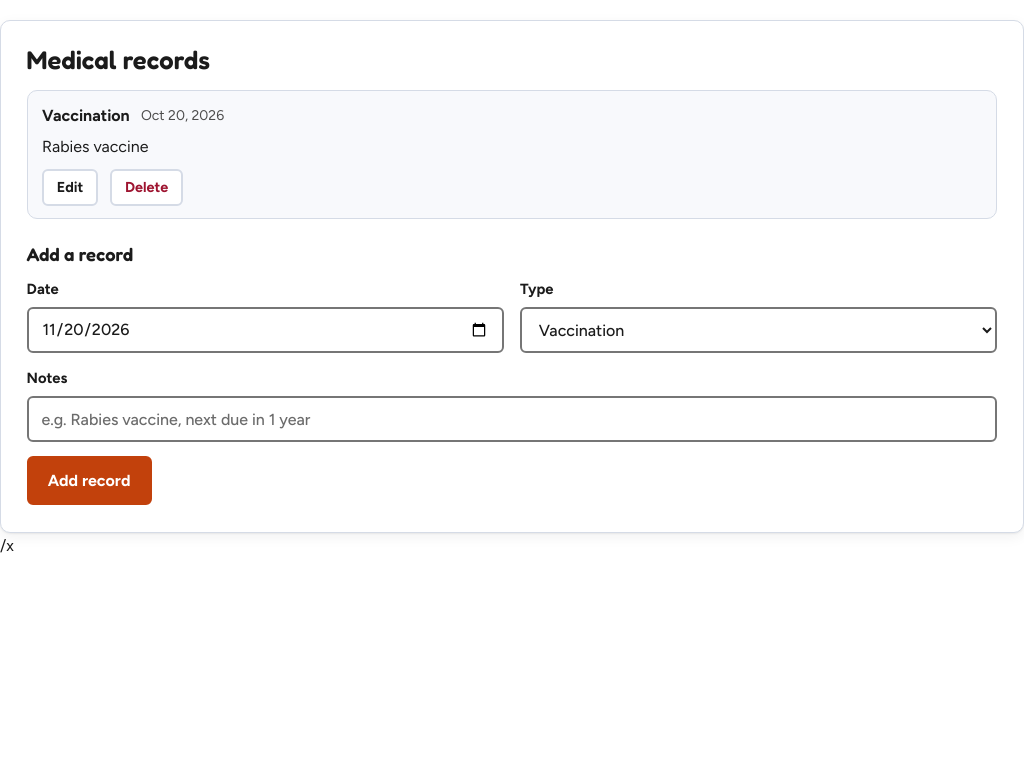
Test: Staff panels (v2) › T-MED-UI-1: staff see medical records and add one
Expected: the text "Rabies vaccine" is shown, [42,137,148,156]
Select "Check-up" in the dropdown labelled "Type": (759,330) [520,307,997,353]
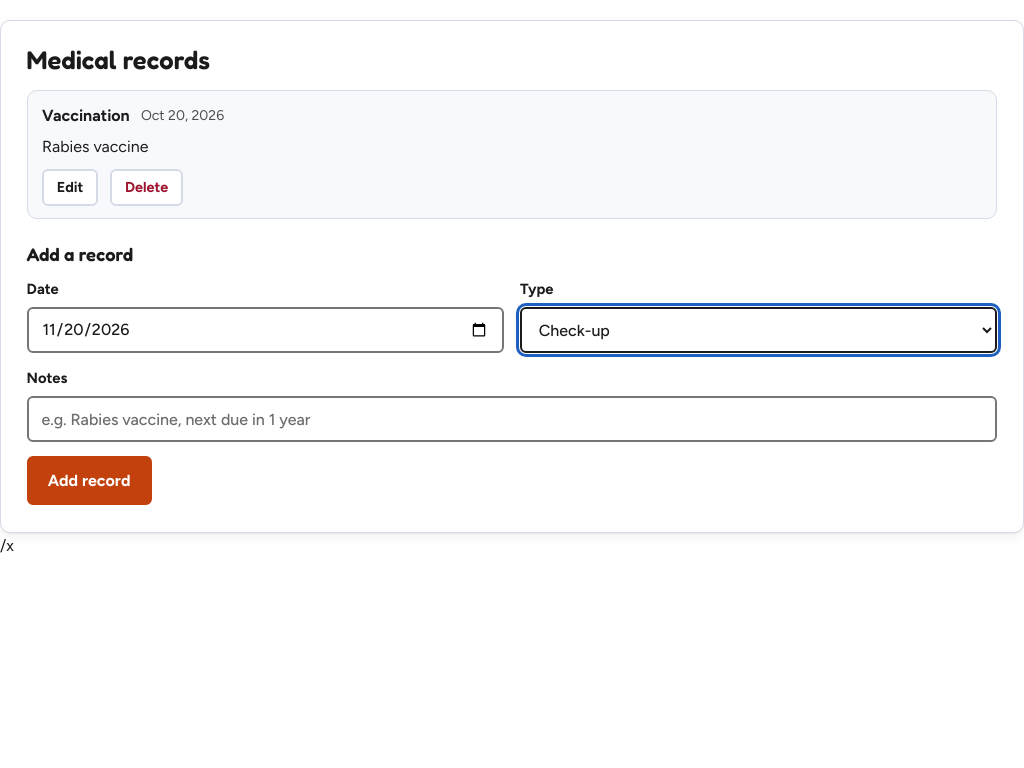
In the field labelled "Notes": (512,419) [27,396,997,442], type "Healthy weight"
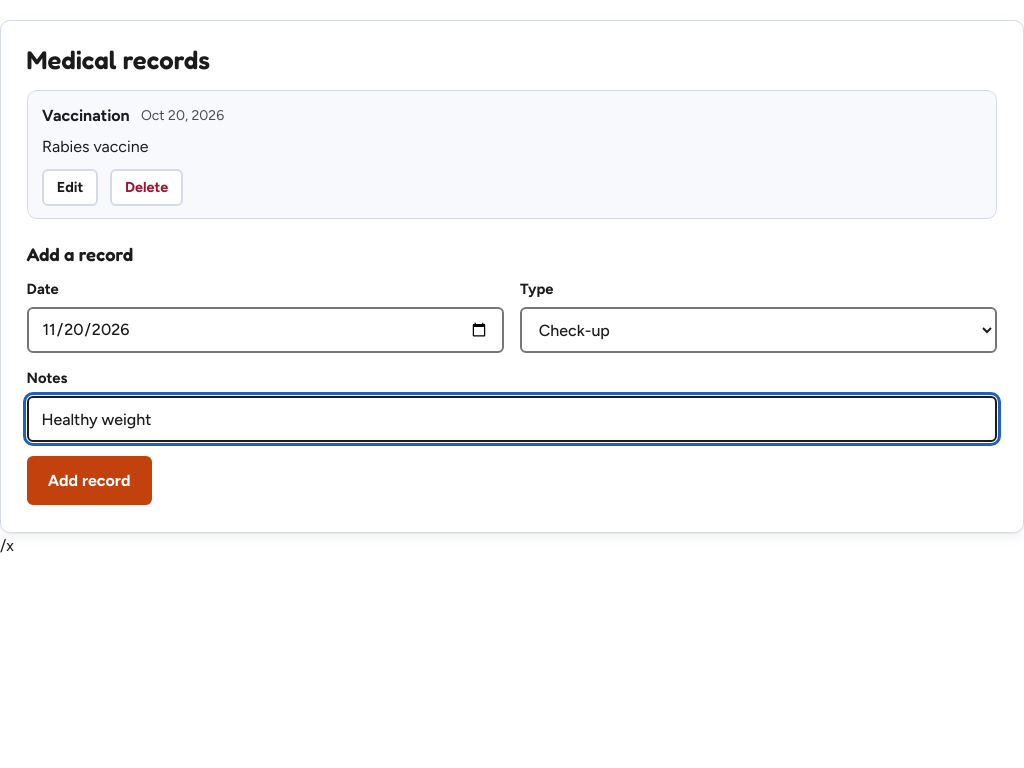
Click the button "Add record": (89,481) [27,456,152,505]
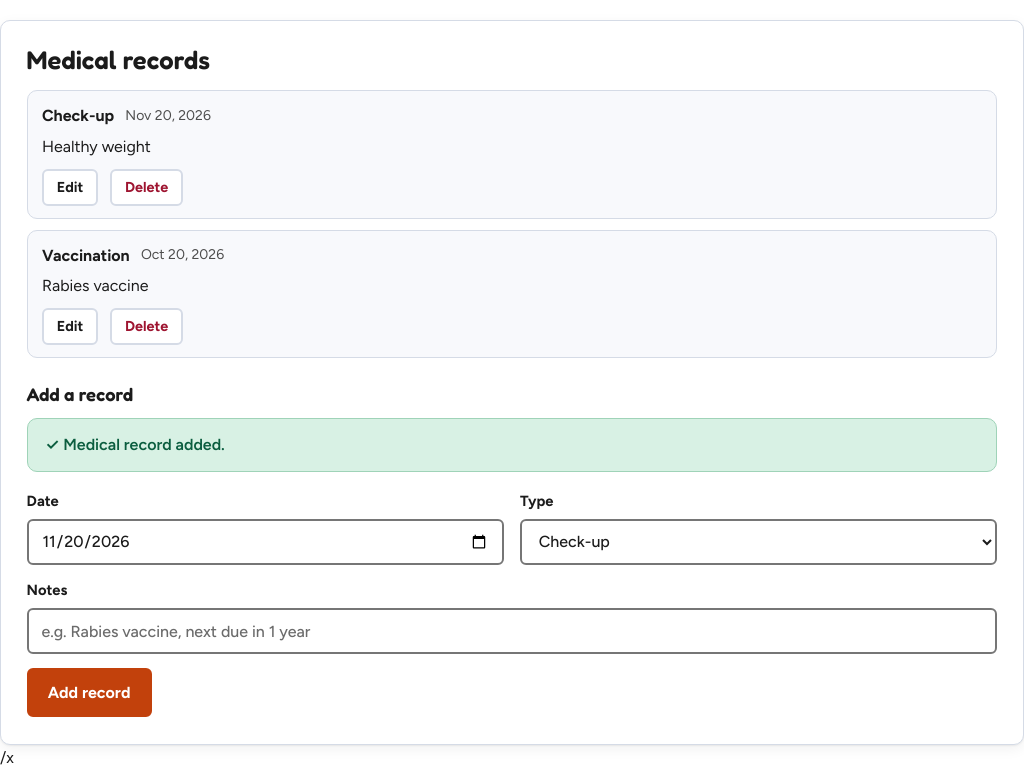
Result: the text "Medical record added." is shown at [27,418,997,472]
Result: the text "Healthy weight" is shown at [42,137,151,156]
